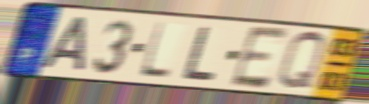3: (91, 18, 135, 76)
A: (38, 15, 91, 74)
E: (228, 24, 292, 91)
L: (136, 20, 173, 81), (179, 25, 217, 84)
Q: (276, 29, 328, 93)
